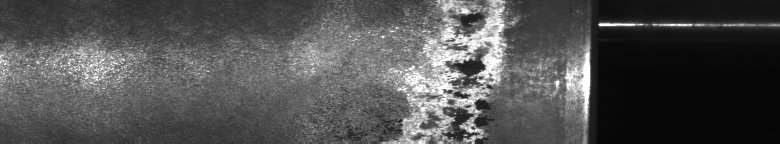kb: (4, 4, 571, 136)
